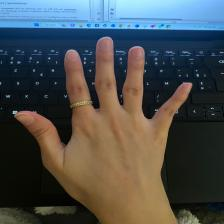five: (23, 35, 192, 190)
